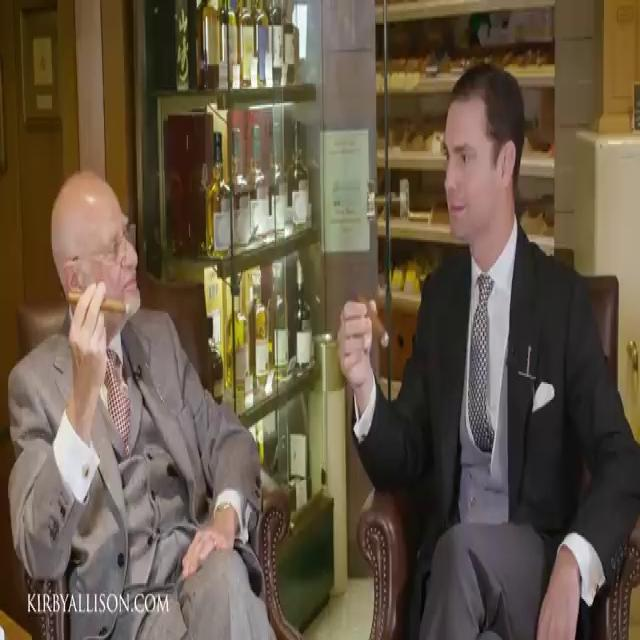Smooking: (64, 278, 134, 330), (352, 288, 400, 354)
